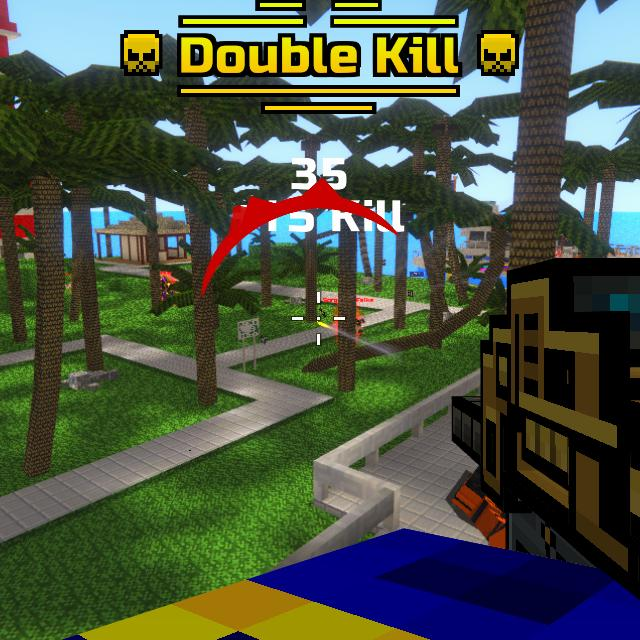Enemy: (160, 276, 172, 300), (356, 308, 362, 345)
